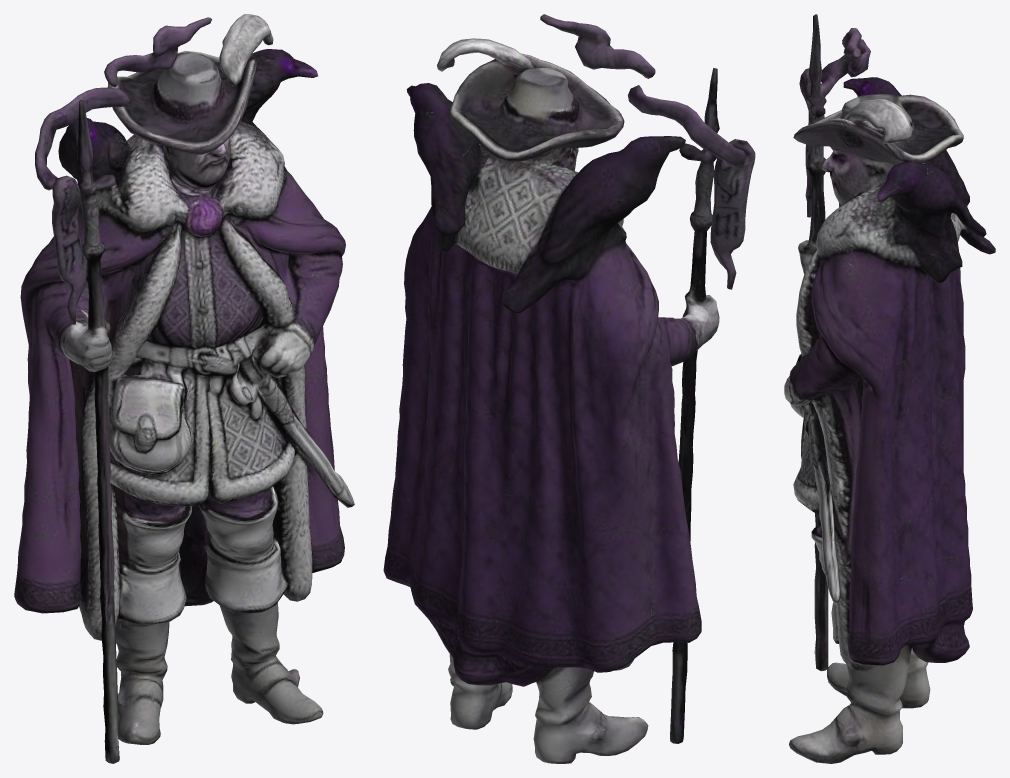
The model's file is Wodin_Wodin.glb.
The picture shows the model from 3 angles, left to right: view 1: azimuth 30°, elevation 25°; view 2: azimuth 150°, elevation 25°; view 3: azimuth 270°, elevation 25°; orthographic projection. The views are drawn at different scales.
Size of the model in its own units: 0.9237 by 1.91 by 0.544.
1 material, 1 textured.
